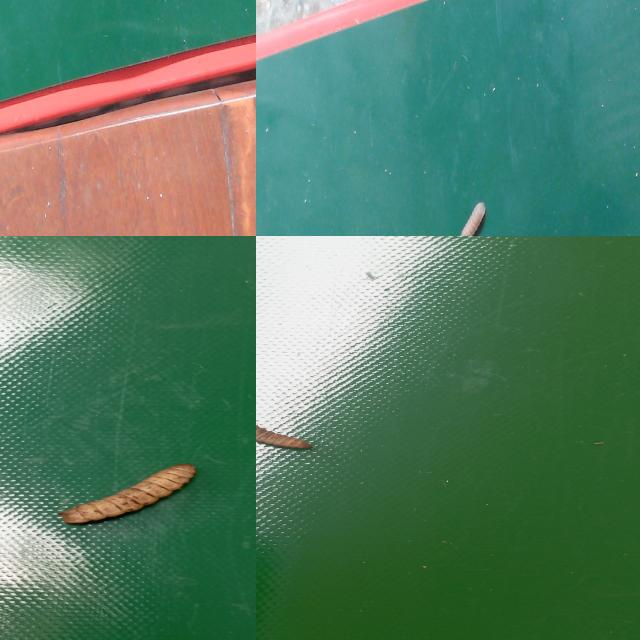Maggot: (61, 464, 197, 527), (256, 425, 311, 453), (458, 202, 487, 236)
